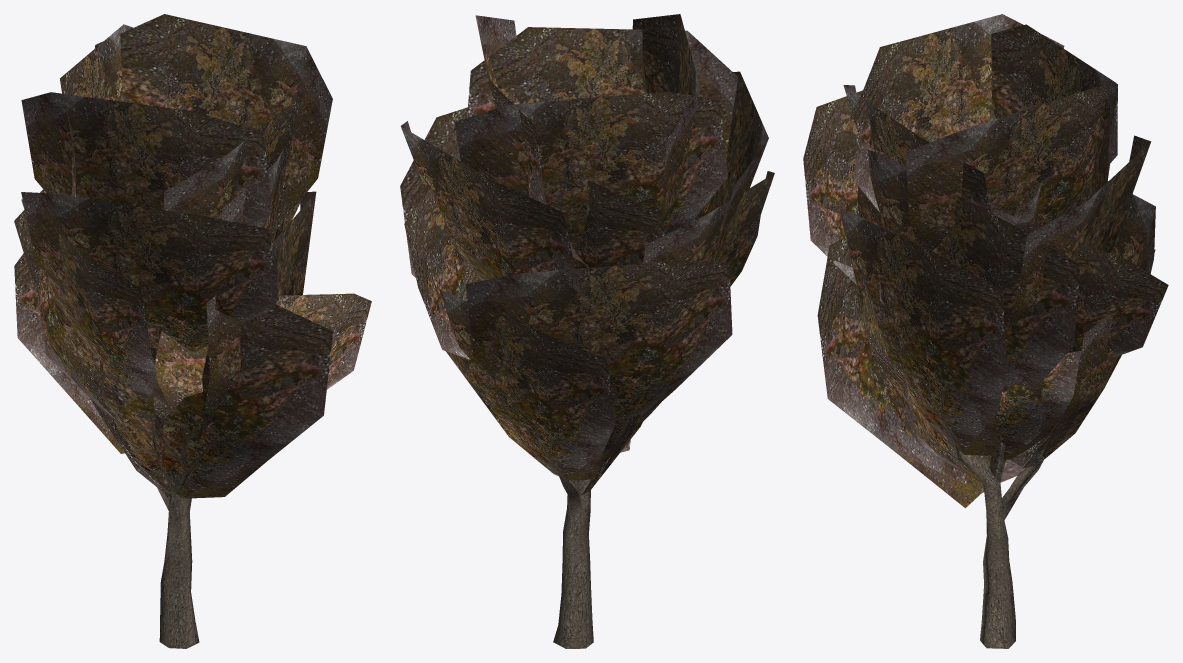
Rendered from tree_decid_large_leaf.fbx.
The picture shows the model from 3 angles, left to right: view 1: azimuth 30°, elevation 25°; view 2: azimuth 150°, elevation 25°; view 3: azimuth 270°, elevation 25°; orthographic projection. The views are drawn at different scales.
Parts seen in each view (by area): view 1: mesh_1, mesh_0; view 2: mesh_1, mesh_0; view 3: mesh_1, mesh_0.
Boxes of the visible parts, left/top/right/bottom form: mesh_1: left=14, top=14, right=371, bottom=498; mesh_0: left=157, top=487, right=199, bottom=648; mesh_1: left=400, top=14, right=774, bottom=494; mesh_0: left=553, top=473, right=593, bottom=648; mesh_1: left=803, top=14, right=1168, bottom=508; mesh_0: left=956, top=434, right=1050, bottom=648.
Bounding box in the file's own units: 727 × 1320 × 762.
2 materials, 2 textured.
